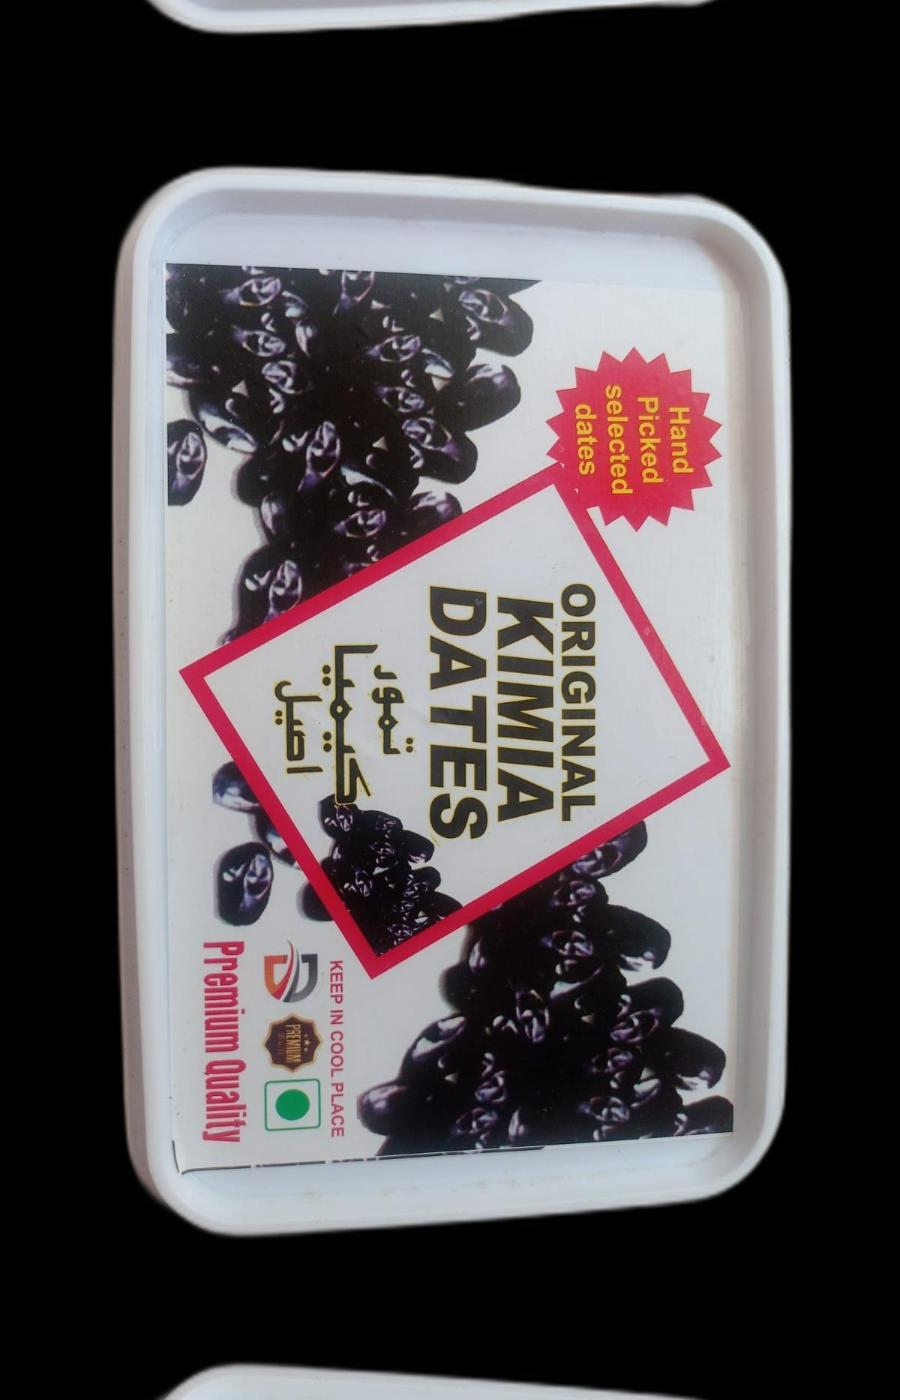Kimia Dates: (94, 163, 818, 1238)
